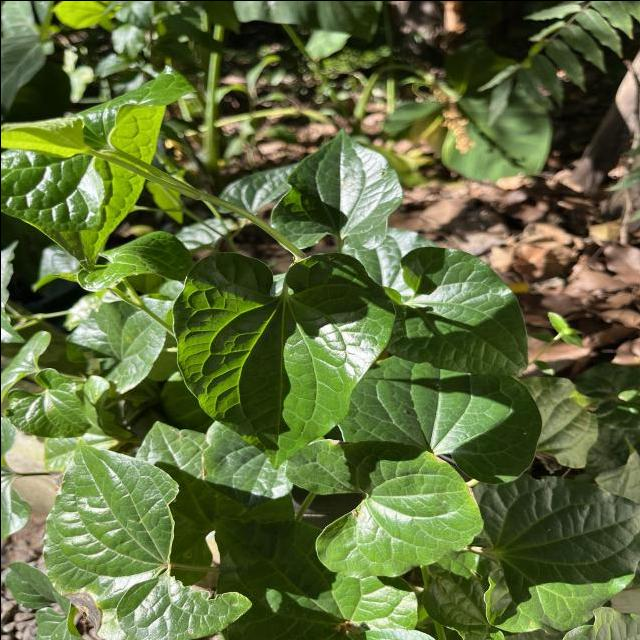Piper longum: (167, 249, 398, 472), (282, 436, 485, 580)
